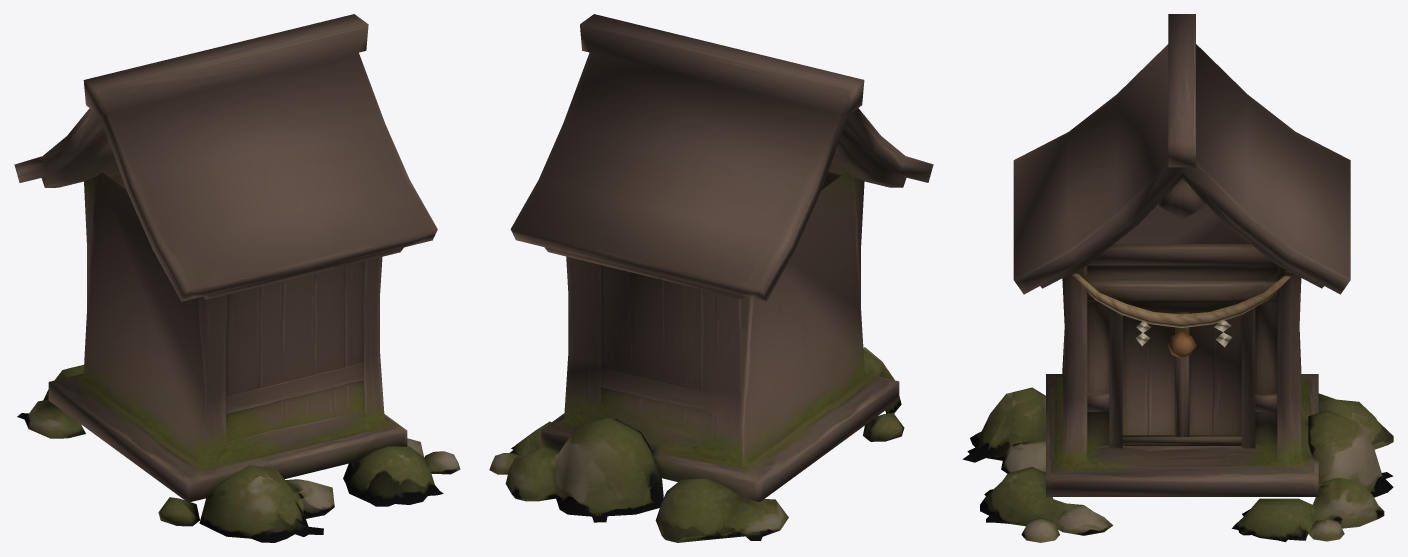
Rendered from wooden_forest_shrine.glb.
The picture shows the model from 3 angles, left to right: view 1: azimuth 30°, elevation 25°; view 2: azimuth 150°, elevation 25°; view 3: azimuth 270°, elevation 25°; orthographic projection. The views are drawn at different scales.
Visible parts, largest first — view 1: tripo_node_f57c4a56-621e-4ff8-8c82-7e3e73f765a7; view 2: tripo_node_f57c4a56-621e-4ff8-8c82-7e3e73f765a7; view 3: tripo_node_f57c4a56-621e-4ff8-8c82-7e3e73f765a7.
Part boxes in pixels (x1=…): tripo_node_f57c4a56-621e-4ff8-8c82-7e3e73f765a7: x1=14, y1=14, x2=460, y2=542; tripo_node_f57c4a56-621e-4ff8-8c82-7e3e73f765a7: x1=489, y1=14, x2=933, y2=542; tripo_node_f57c4a56-621e-4ff8-8c82-7e3e73f765a7: x1=962, y1=14, x2=1393, y2=542.
Bounding box in the file's own units: 0.7715 × 0.9902 × 0.998.
Materials: 1 (1 with a texture image).
